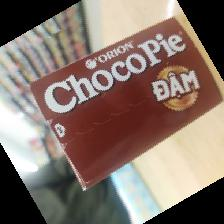Chocopie_cacao: (28, 17, 222, 193)
